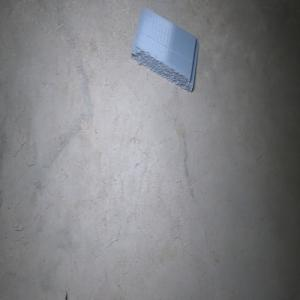PlasticPart: (130, 6, 199, 93)
